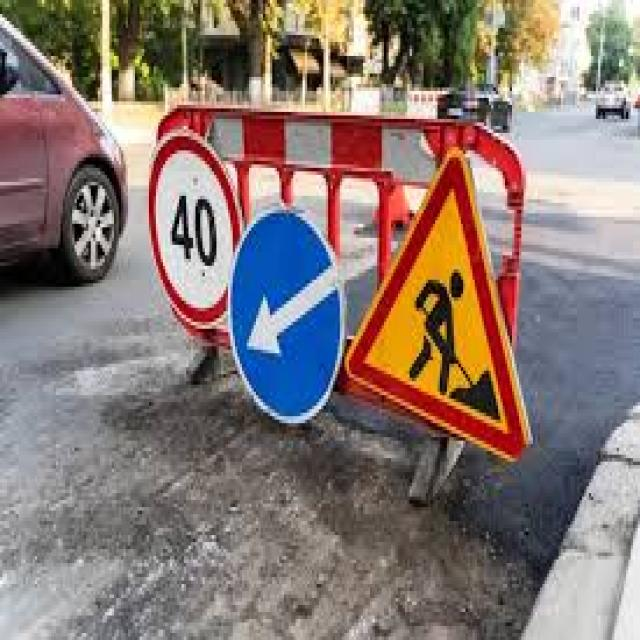roadwork: (342, 138, 537, 463)
speed limit 40: (142, 134, 246, 331)
